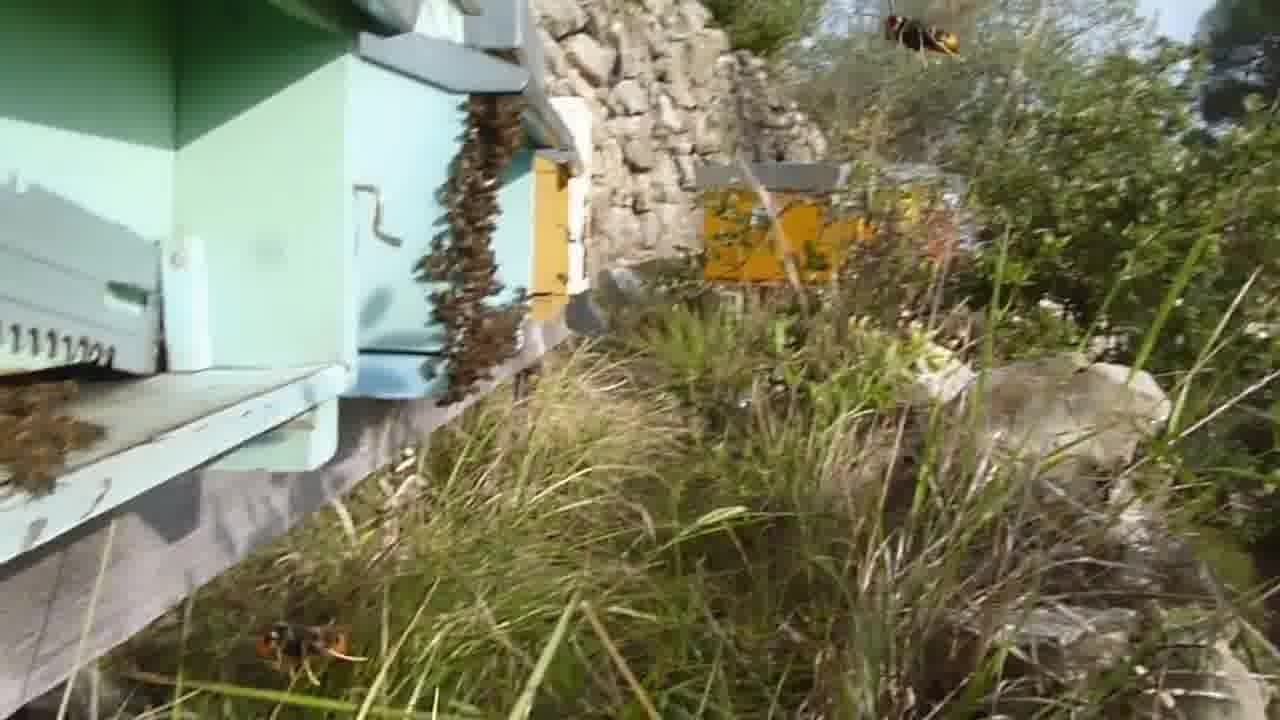bee: (2, 378, 112, 492), (443, 317, 523, 402), (438, 181, 503, 264), (422, 260, 512, 319), (455, 101, 524, 177)
hornet: (244, 603, 362, 693), (861, 2, 961, 64)
